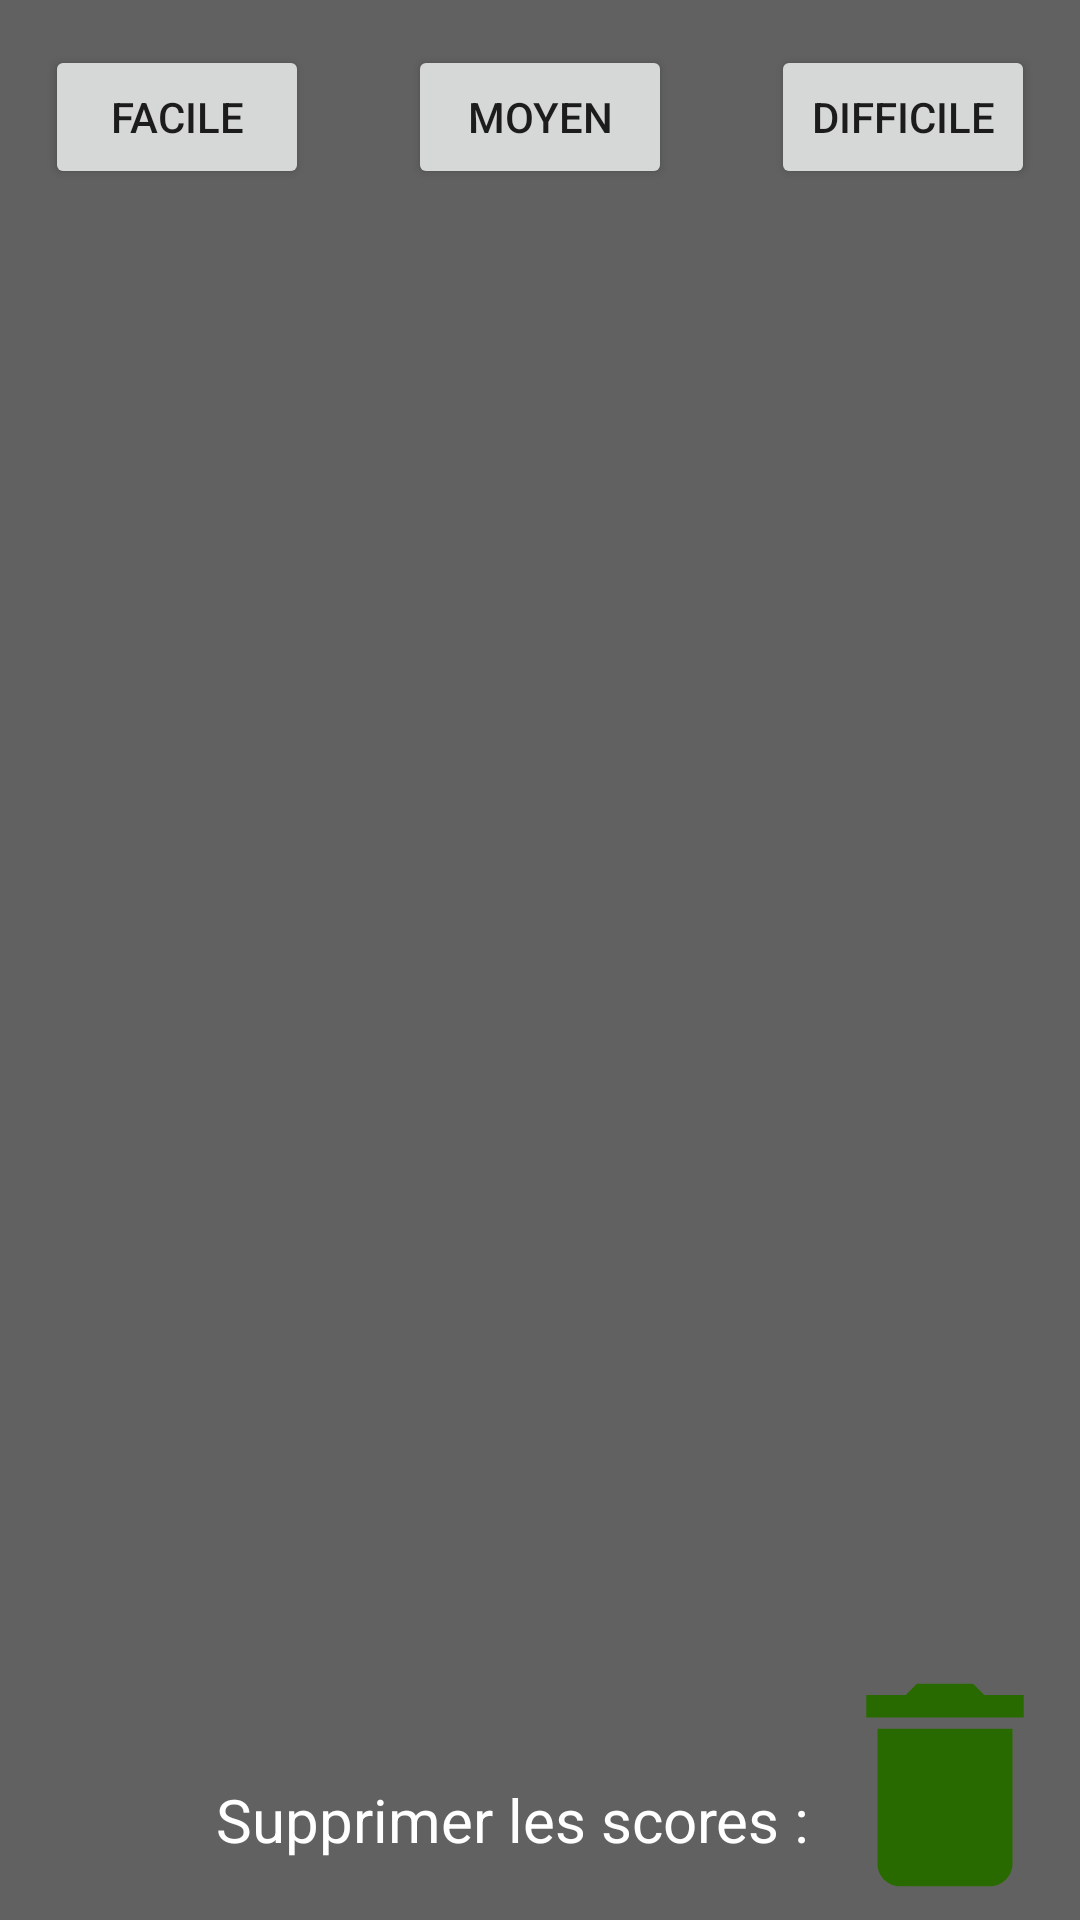

Icons on this 1080*1920 Android screen, each with its box as (x1, y1, x2, y2):
delete: (866, 1684, 1024, 1886)
